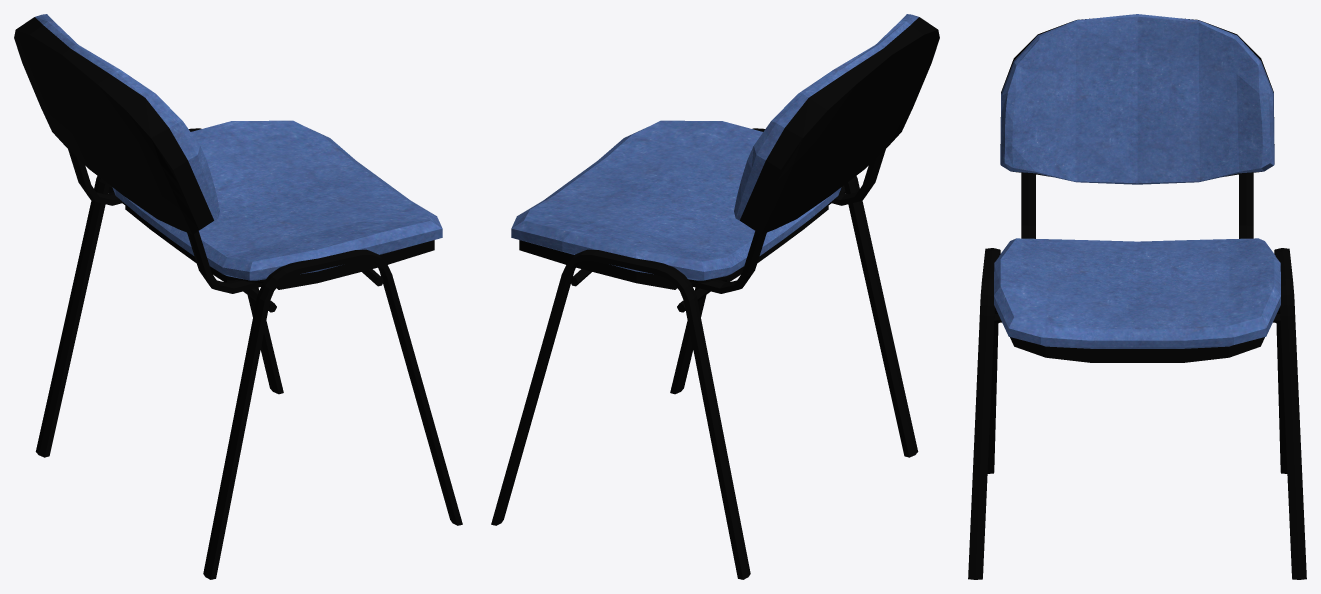
Rendered from chair.obj.
The picture shows the model from 3 angles, left to right: view 1: azimuth 30°, elevation 25°; view 2: azimuth 150°, elevation 25°; view 3: azimuth 270°, elevation 25°; orthographic projection. The views are drawn at different scales.
Bounding box in the file's own units: 1.19 × 1.71 × 1.2.
Materials: 2 (1 with a texture image).
